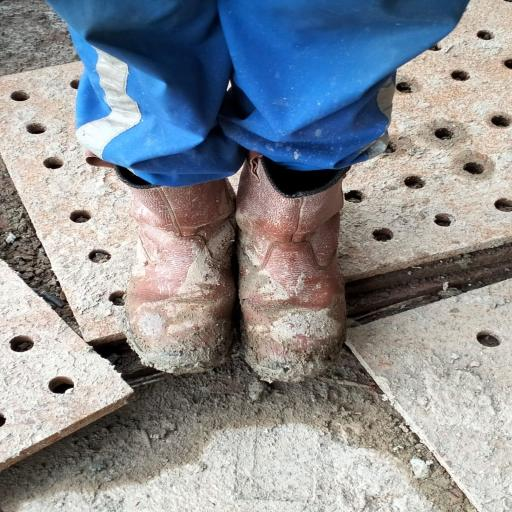safety_shoe: (109, 166, 238, 370), (241, 159, 352, 371)
